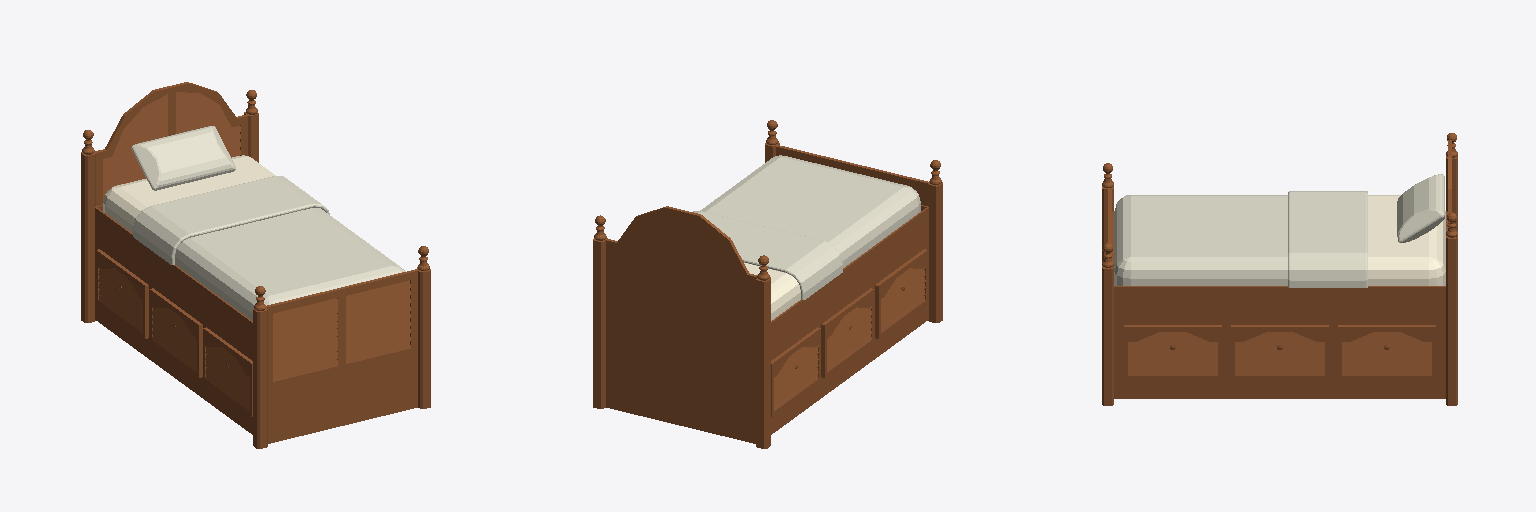
File: bed2.obj
The picture shows the model from 3 angles: view 1: azimuth 30°, elevation 25°; view 2: azimuth 150°, elevation 25°; view 3: azimuth 270°, elevation 25°; orthographic projection.
Bounding box in the file's own units: 48.02 × 56.41 × 85.02.